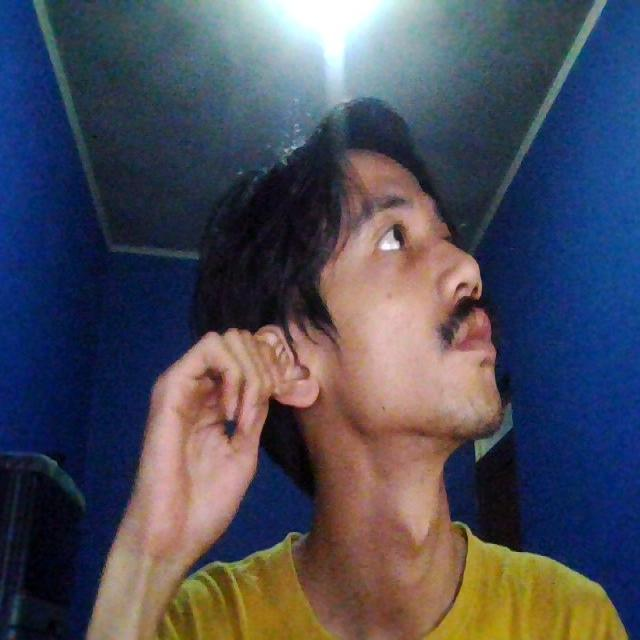melihat kekiri: (181, 113, 499, 485)
movement: (131, 330, 329, 563)
